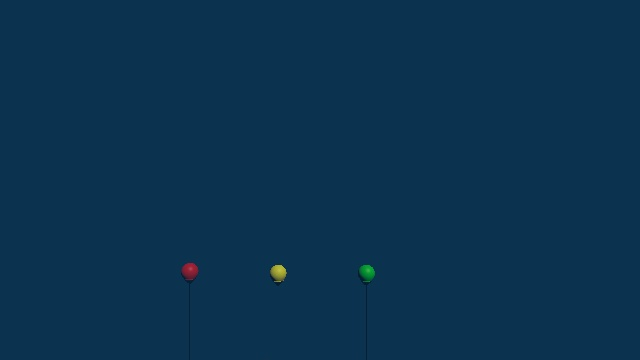buoy_green: (357, 263, 375, 285)
buoy_red: (180, 261, 198, 282)
